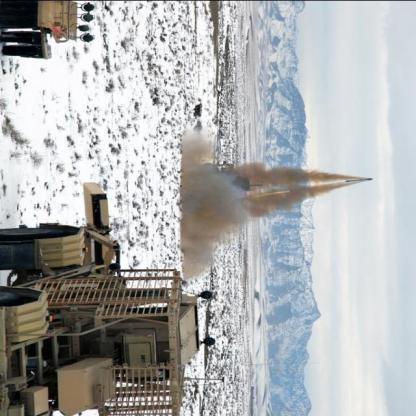MIL_TBM: (344, 177, 376, 183)
